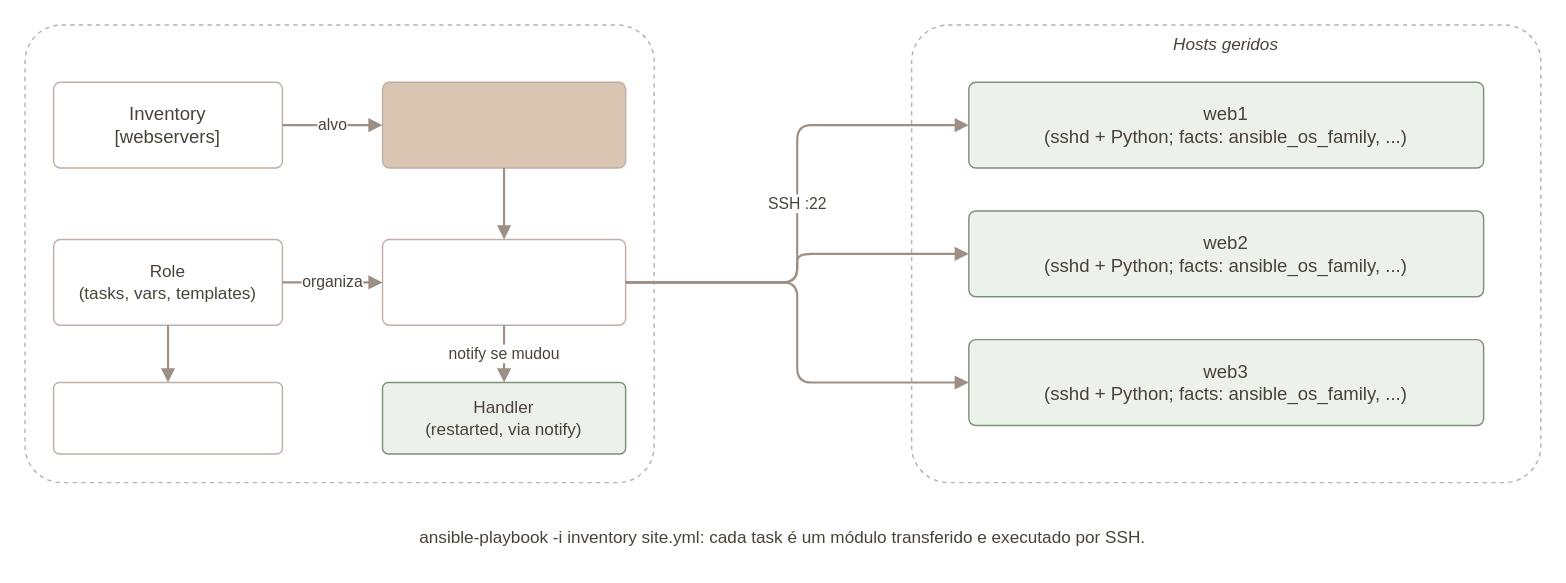
Some shapes in this 1566 by 583 pixel diagram are drawn without their labels. Here are the shapes that lost their labels. From the top down, the box of each, then its label:
(381, 81, 626, 168): Playbook (YAML)
(24, 24, 654, 483): Control node
(381, 238, 626, 325): Tasks (módulos apt, template, service)
(52, 381, 282, 454): Template Jinja2 (nginx.conf.j2)
